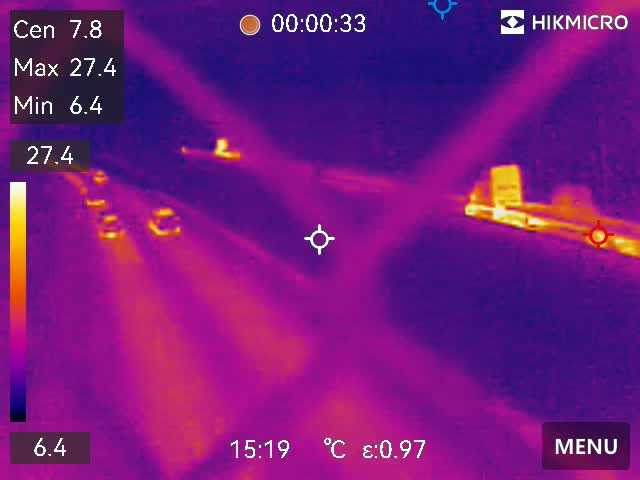heavyTruck: (471, 165, 640, 253)
vehicle: (145, 209, 185, 236), (97, 211, 129, 240)
